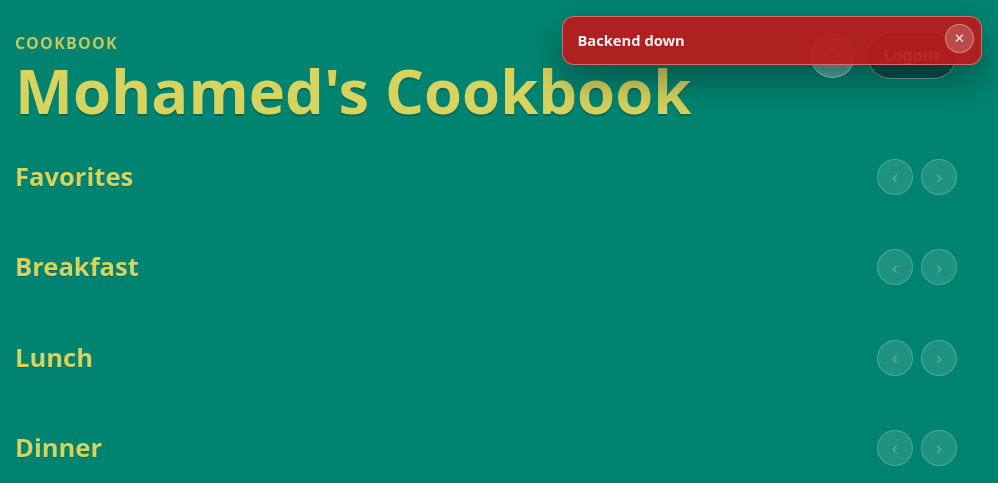
Scenario: Recipe Feed › shows and dismisses backend error banner when fetch fails
Check: the message shows "Backend down", box [577,30,685,50]
Click the button named "Dismiss backend error": (959, 39) [945,24,974,53]
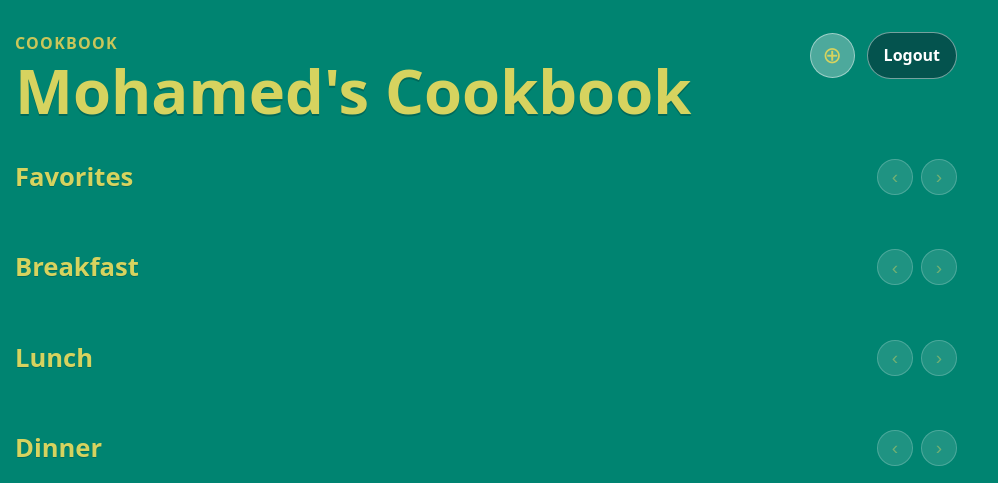
Check: the message "Backend down ✕" is gone
